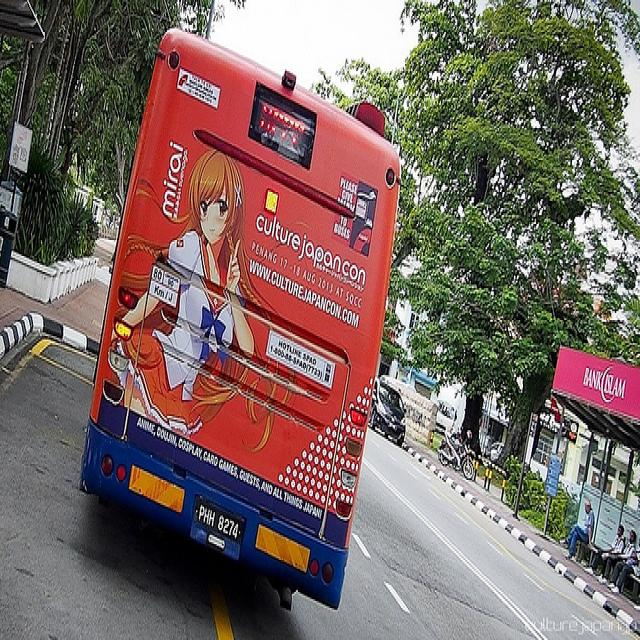motor: (436, 433, 475, 481)
